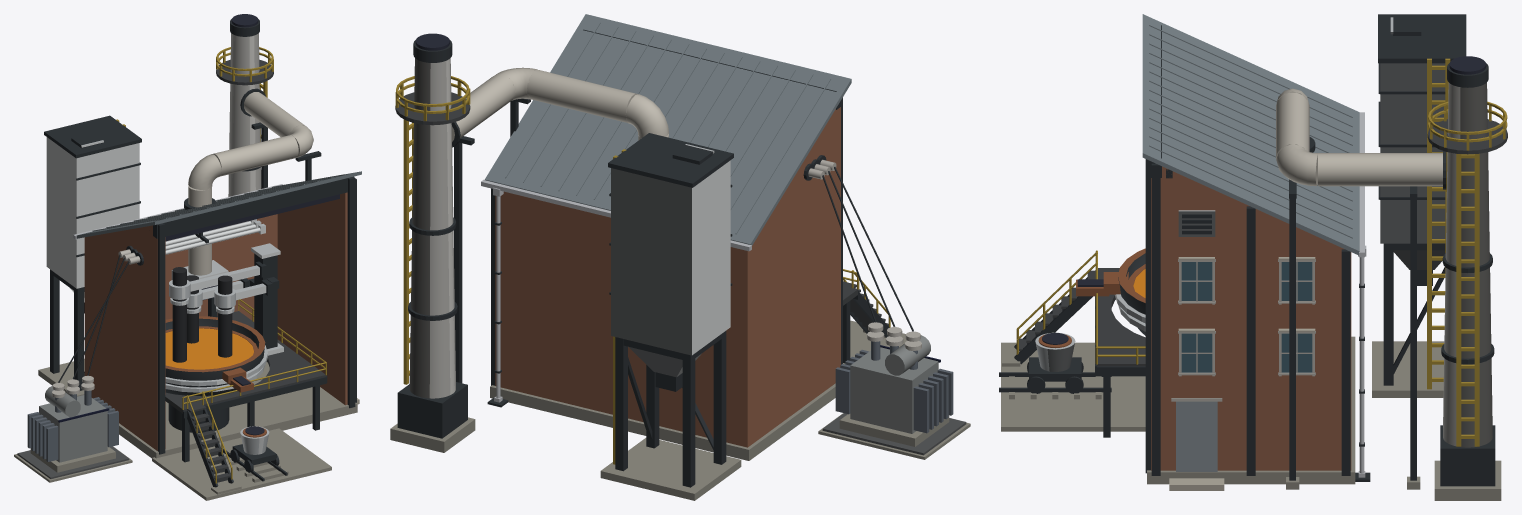
Rendered from eaf_lvl1.glb.
3 views of the same model, side by side, from view 1: azimuth 30°, elevation 25°; view 2: azimuth 150°, elevation 25°; view 3: azimuth 270°, elevation 25° (orthographic). The views are drawn at different scales.
Visible parts, largest first — view 1: eaf_v2; view 2: eaf_v2; view 3: eaf_v2, eaf_v2_Glass.
Boxes of the visible parts, <box> form: eaf_v2: <box>14,14,361,500</box>; eaf_v2: <box>390,14,970,500</box>; eaf_v2: <box>999,14,1507,500</box>; eaf_v2_Glass: <box>1181,262,1312,372</box>.
Bounding box in the file's own units: 0.7612 × 0.6723 × 0.733.
